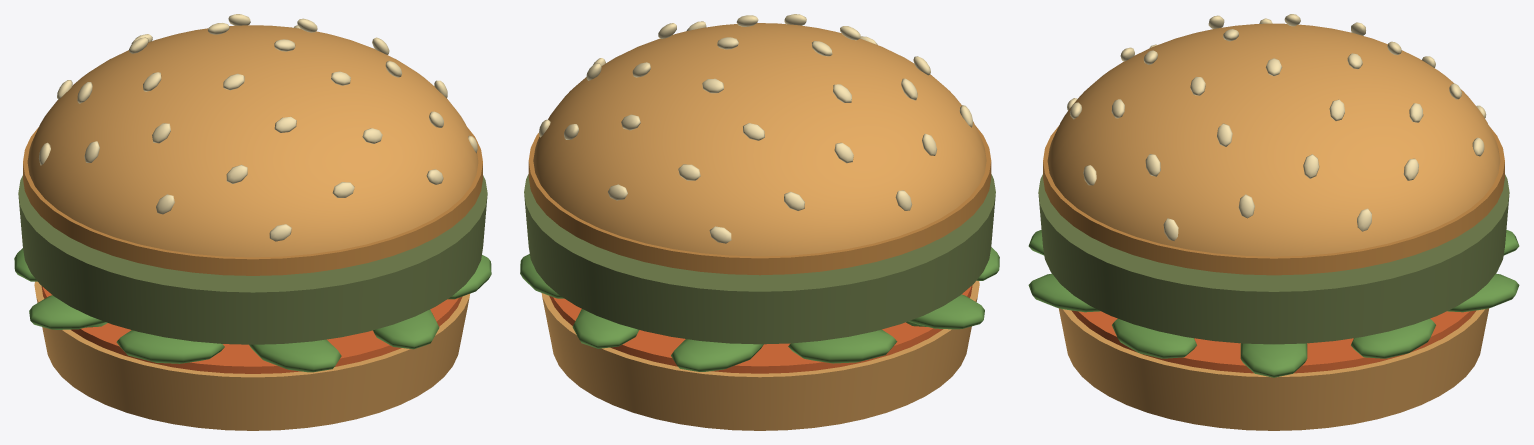
Rendered from burger-veggie.glb.
3 renders of one model, left to right at view 1: azimuth 30°, elevation 25°; view 2: azimuth 150°, elevation 25°; view 3: azimuth 270°, elevation 25°, orthographic.
Visible parts, largest first — view 1: TopBun, burger-veggie, Patty, Lettuce, Sesame; view 2: TopBun, burger-veggie, Patty, Lettuce, Sesame; view 3: TopBun, burger-veggie, Patty, Lettuce, Sesame.
Boxes of the visible parts, x1,y1,x2,y2 form: TopBun: (27, 25, 478, 257); burger-veggie: (23, 127, 482, 430); Patty: (18, 175, 487, 344); Lettuce: (14, 248, 491, 372); Sesame: (39, 14, 477, 241); TopBun: (533, 23, 986, 256); burger-veggie: (528, 125, 991, 430); Patty: (524, 174, 995, 344); Lettuce: (520, 247, 999, 371); Sesame: (539, 14, 972, 243); TopBun: (1047, 23, 1500, 256); burger-veggie: (1043, 126, 1504, 430); Patty: (1038, 174, 1509, 344); Lettuce: (1028, 229, 1519, 377); Sesame: (1067, 14, 1486, 240).
Size of the model in its own units: 2.23 by 1.42 by 2.13.
